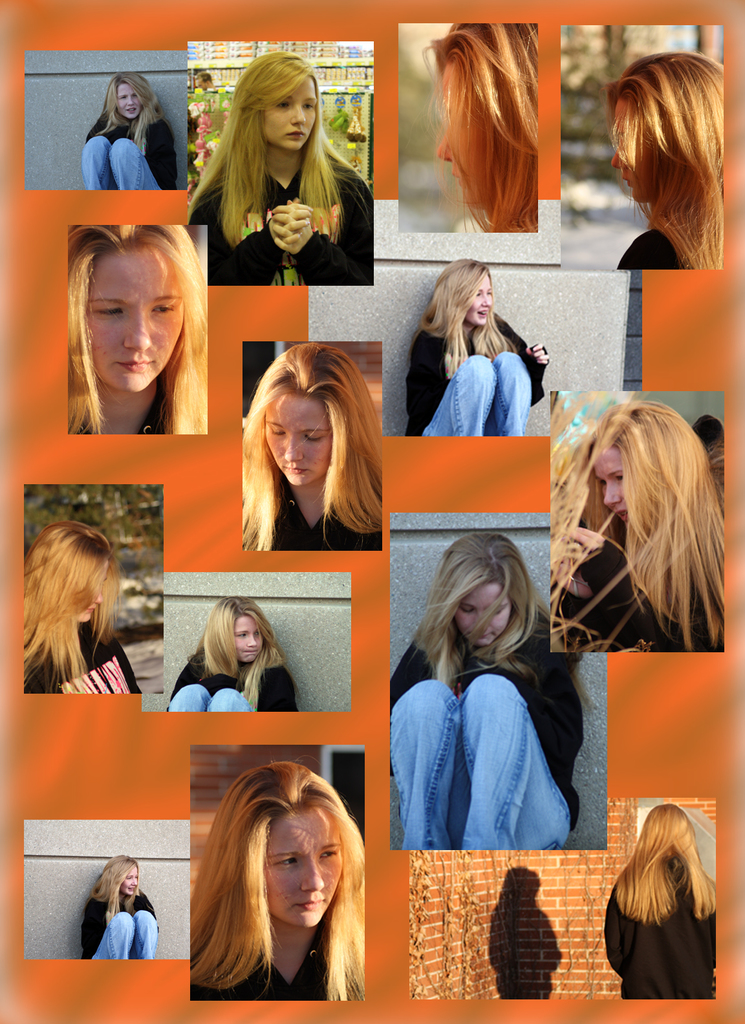Person: (10, 14, 717, 999)
